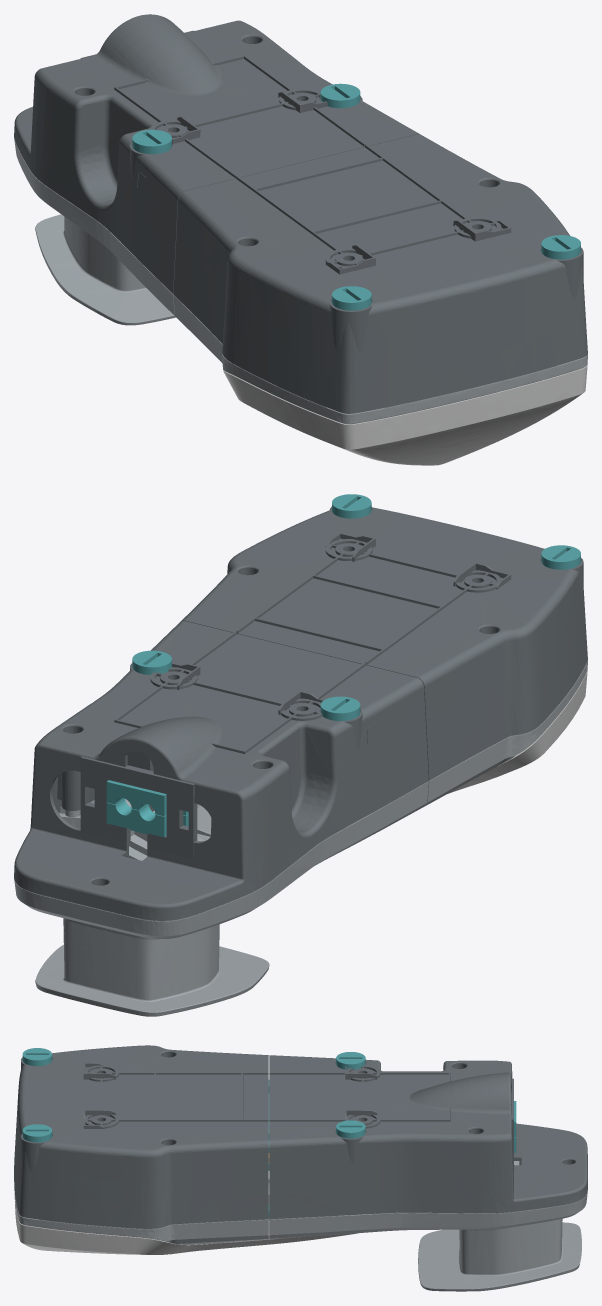
The model's file is ChargeGrid-50-montado.glb.
3 renders of one model, top to bottom at view 1: azimuth 30°, elevation 25°; view 2: azimuth 150°, elevation 25°; view 3: azimuth 270°, elevation 25°, orthographic. The views are drawn at different scales.
Parts seen in each view (by area): view 1: 01-traseira-superior, 01-traseira-inferior, 05-tampa-frontal, 03-quadro-inferior, 03-quadro-superior, pino-casca-0, pino-casca-1, pino-casca-2, pino-casca-3; view 2: 01-traseira-inferior, 01-traseira-superior, 03-quadro-inferior, 03-quadro-superior, 05-tampa-frontal, 19-inserto-duplo-5mm-b, 19-inserto-duplo-5mm-a, pino-casca-2, pino-casca-1, pino-casca-0, pino-casca-3; view 3: 01-traseira-superior, 01-traseira-inferior, 03-quadro-inferior, 05-tampa-frontal, 03-quadro-superior, pino-casca-1, pino-casca-0, pino-casca-3, pino-casca-2.
Part boxes in pixels (x1=…): 01-traseira-superior: x1=173, y1=134, x2=587, y2=413; 01-traseira-inferior: x1=14, y1=14, x2=420, y2=293; 05-tampa-frontal: x1=223, y1=365, x2=587, y2=465; 03-quadro-inferior: x1=14, y1=139, x2=175, y2=325; 03-quadro-superior: x1=173, y1=295, x2=587, y2=424; pino-casca-0: x1=332, y1=286, x2=371, y2=310; pino-casca-1: x1=541, y1=235, x2=580, y2=259; pino-casca-2: x1=132, y1=129, x2=171, y2=154; pino-casca-3: x1=320, y1=83, x2=360, y2=108; 01-traseira-inferior: x1=14, y1=621, x2=428, y2=920; 01-traseira-superior: x1=180, y1=506, x2=587, y2=780; 03-quadro-inferior: x1=14, y1=781, x2=428, y2=1016; 03-quadro-superior: x1=420, y1=660, x2=587, y2=808; 05-tampa-frontal: x1=448, y1=671, x2=587, y2=793; 19-inserto-duplo-5mm-b: x1=106, y1=798, x2=188, y2=837; 19-inserto-duplo-5mm-a: x1=106, y1=780, x2=188, y2=816; pino-casca-2: x1=320, y1=696, x2=360, y2=720; pino-casca-1: x1=332, y1=494, x2=371, y2=518; pino-casca-0: x1=541, y1=545, x2=580, y2=569; pino-casca-3: x1=132, y1=650, x2=171, y2=674; 01-traseira-superior: x1=14, y1=1045, x2=268, y2=1228; 01-traseira-inferior: x1=269, y1=1055, x2=587, y2=1219; 03-quadro-inferior: x1=269, y1=1161, x2=587, y2=1291; 05-tampa-frontal: x1=14, y1=1178, x2=357, y2=1254; 03-quadro-superior: x1=14, y1=1180, x2=268, y2=1244; pino-casca-1: x1=22, y1=1124, x2=52, y2=1142; pino-casca-0: x1=22, y1=1048, x2=52, y2=1066; pino-casca-3: x1=336, y1=1120, x2=365, y2=1138; pino-casca-2: x1=336, y1=1052, x2=365, y2=1069.
Bounding box in the file's own units: 104 × 82.36 × 225.
